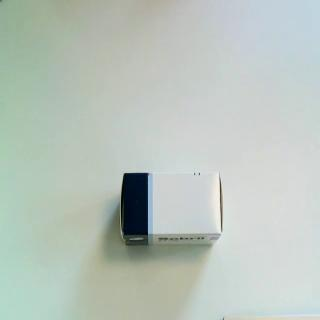sobril25mg: (119, 170, 225, 250)
